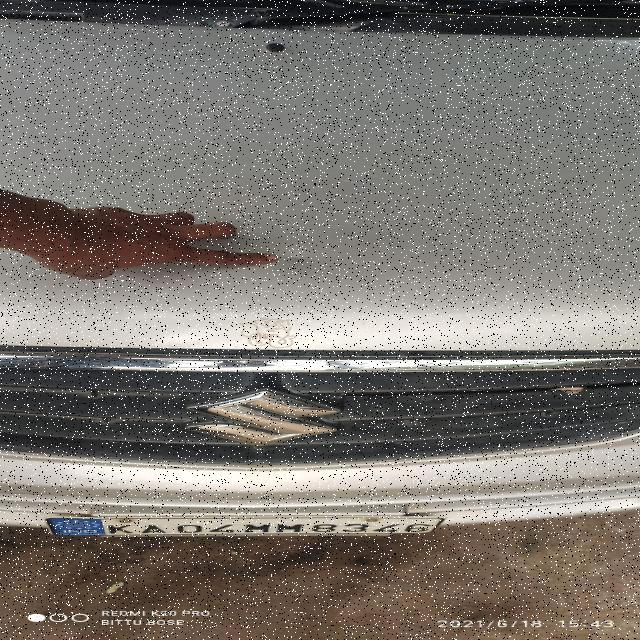bonnet-dent: (3, 17, 638, 393)
